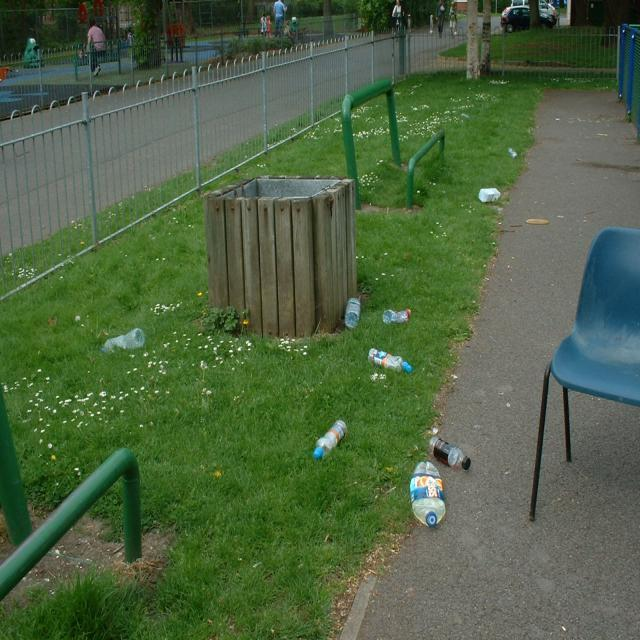bin: (204, 174, 363, 336)
plastic: (397, 423, 480, 539), (300, 404, 353, 461), (360, 331, 414, 379), (92, 320, 153, 355), (474, 175, 513, 210), (337, 287, 365, 326), (380, 300, 419, 325)
